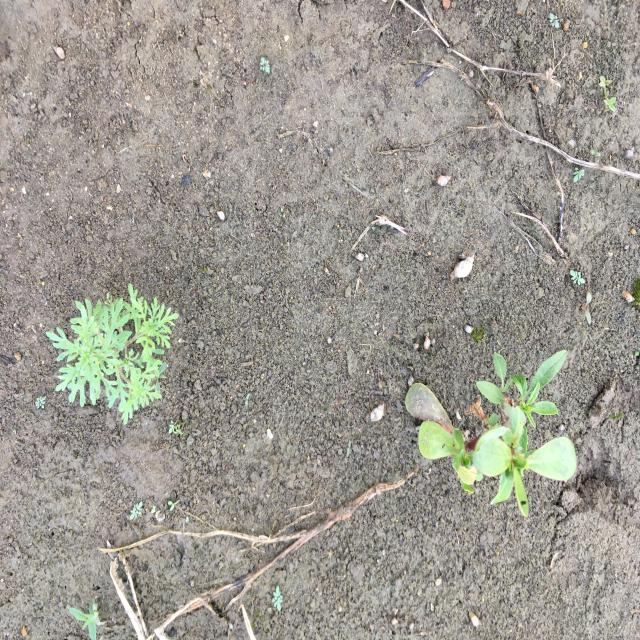Purslane: (404, 382, 578, 518)
Ragweed: (45, 282, 182, 426)
Waterhemp: (475, 348, 569, 430)
